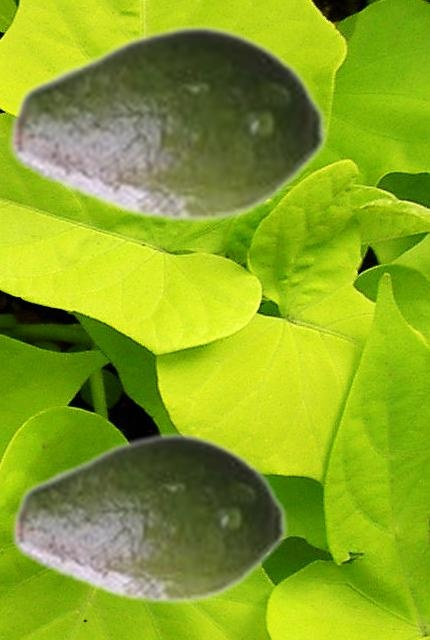avocado: (8, 23, 328, 224), (11, 431, 288, 605)
